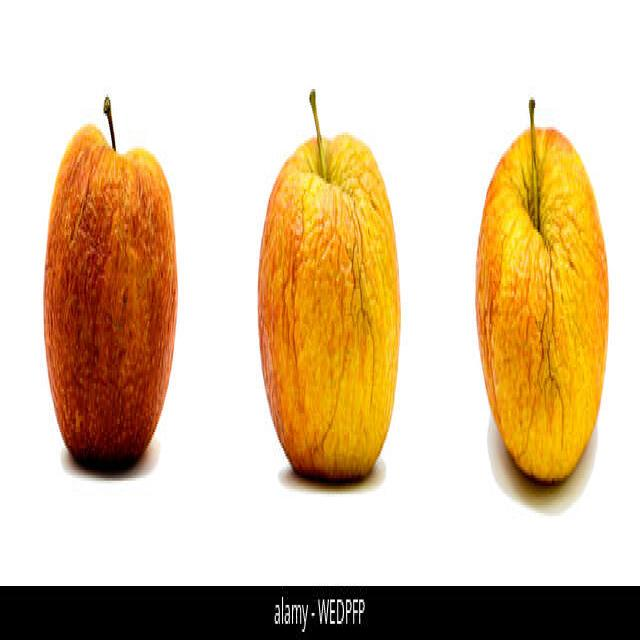overripe: (256, 127, 402, 486), (473, 116, 612, 486), (42, 114, 179, 476)
